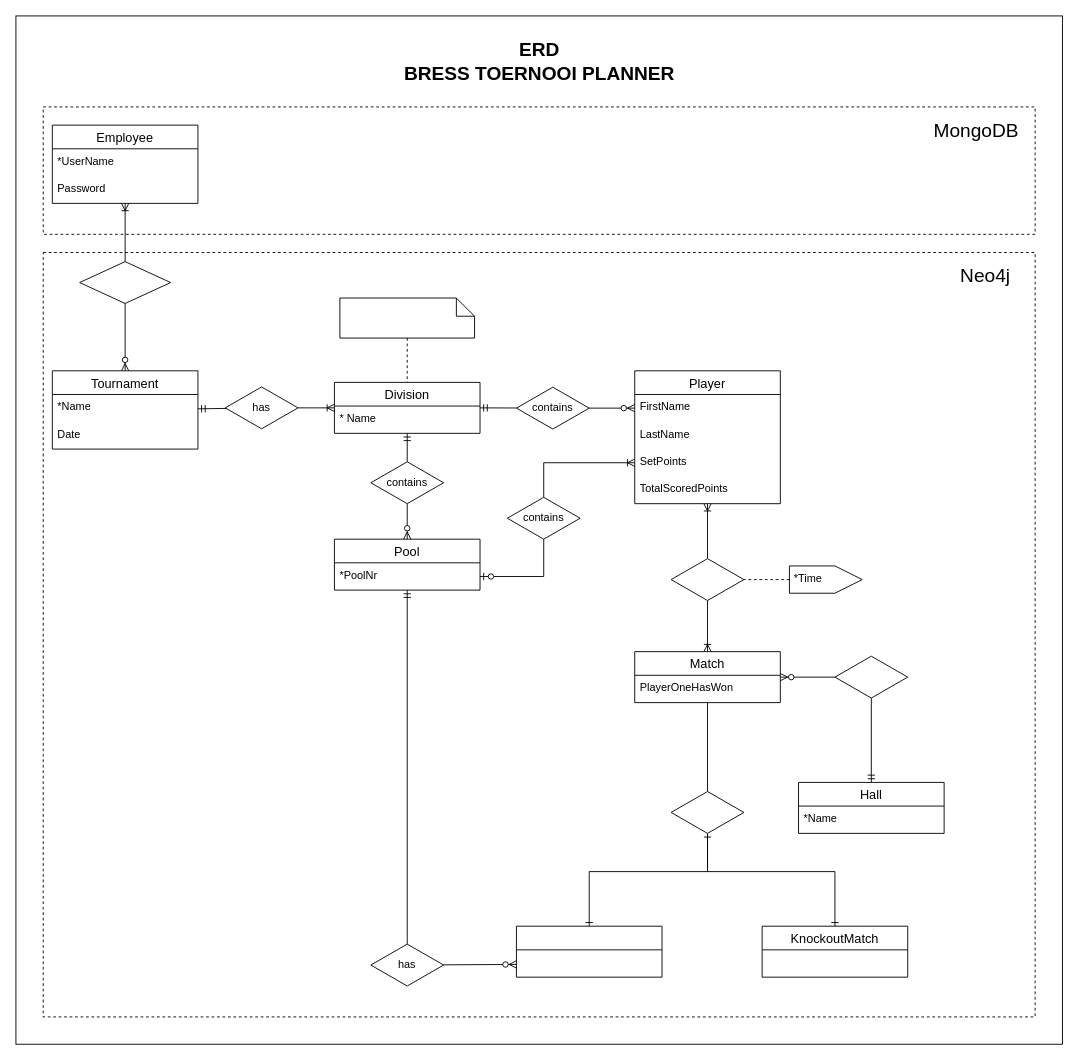
Some shapes in this 1078 by 1060 pixel diagram are drawn without their labels. Here are the shapes that lost their labels. From the top down, the centre of each, then its label:
(x=125, y=282): Created by
(x=407, y=317): Divisies worden meer gezien als vertakkingen van het toernooi
(x=707, y=579): Plays
(x=871, y=676): Played in
(x=707, y=812): Is a
(x=589, y=951): PoolMatch
